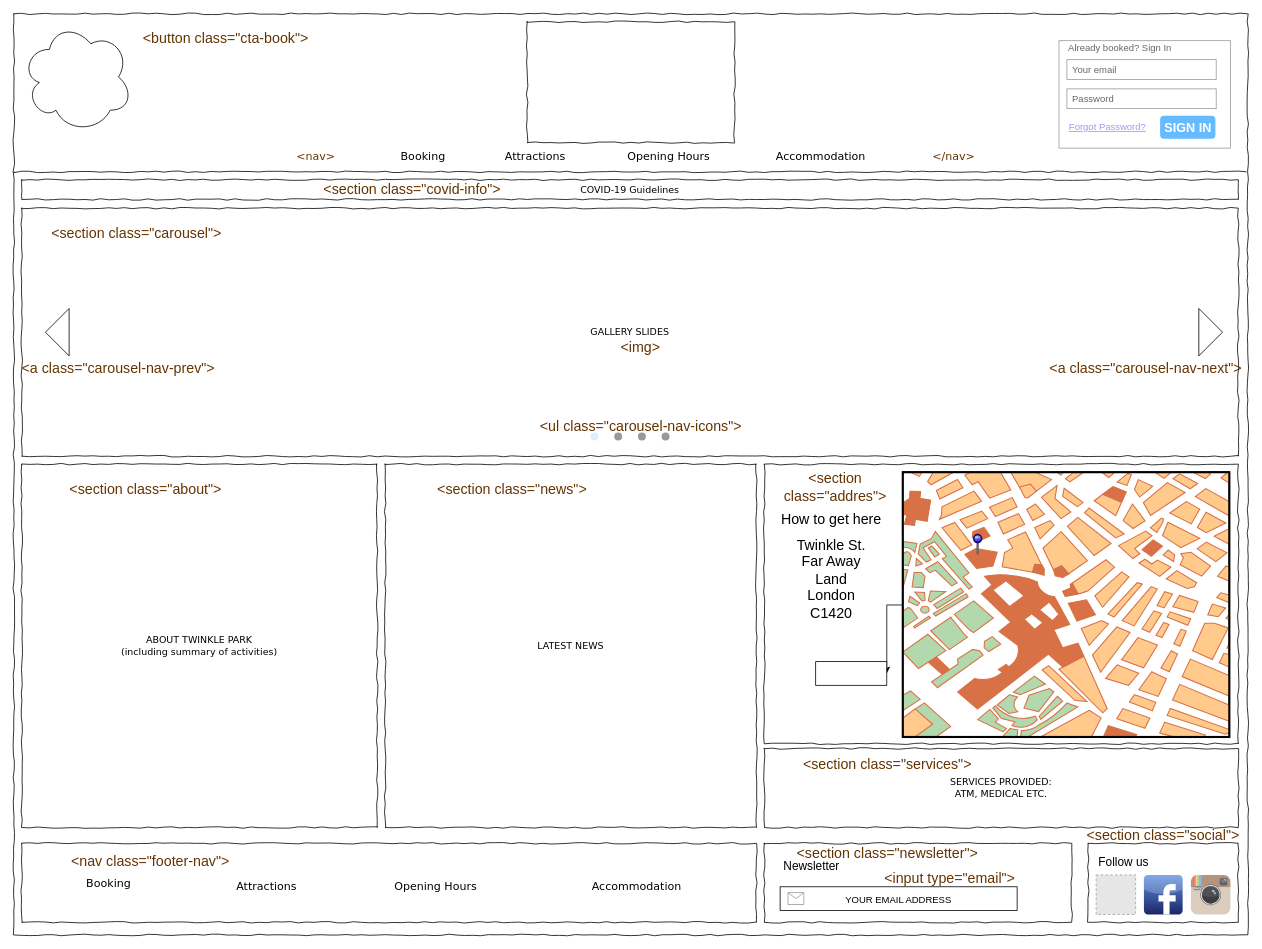
The diagram is 1262 pixels wide and 949 high, and some of its shapes have lost their labels. Grey dashed boxes stand in for pictures. Here are the shapes that lost their labels. From the top down, the centre of each, then its label:
At (76,76): "CTA BOOK HERE".
At (630,82): "LOGO <img>".
At (851,673): "Clickable map".
